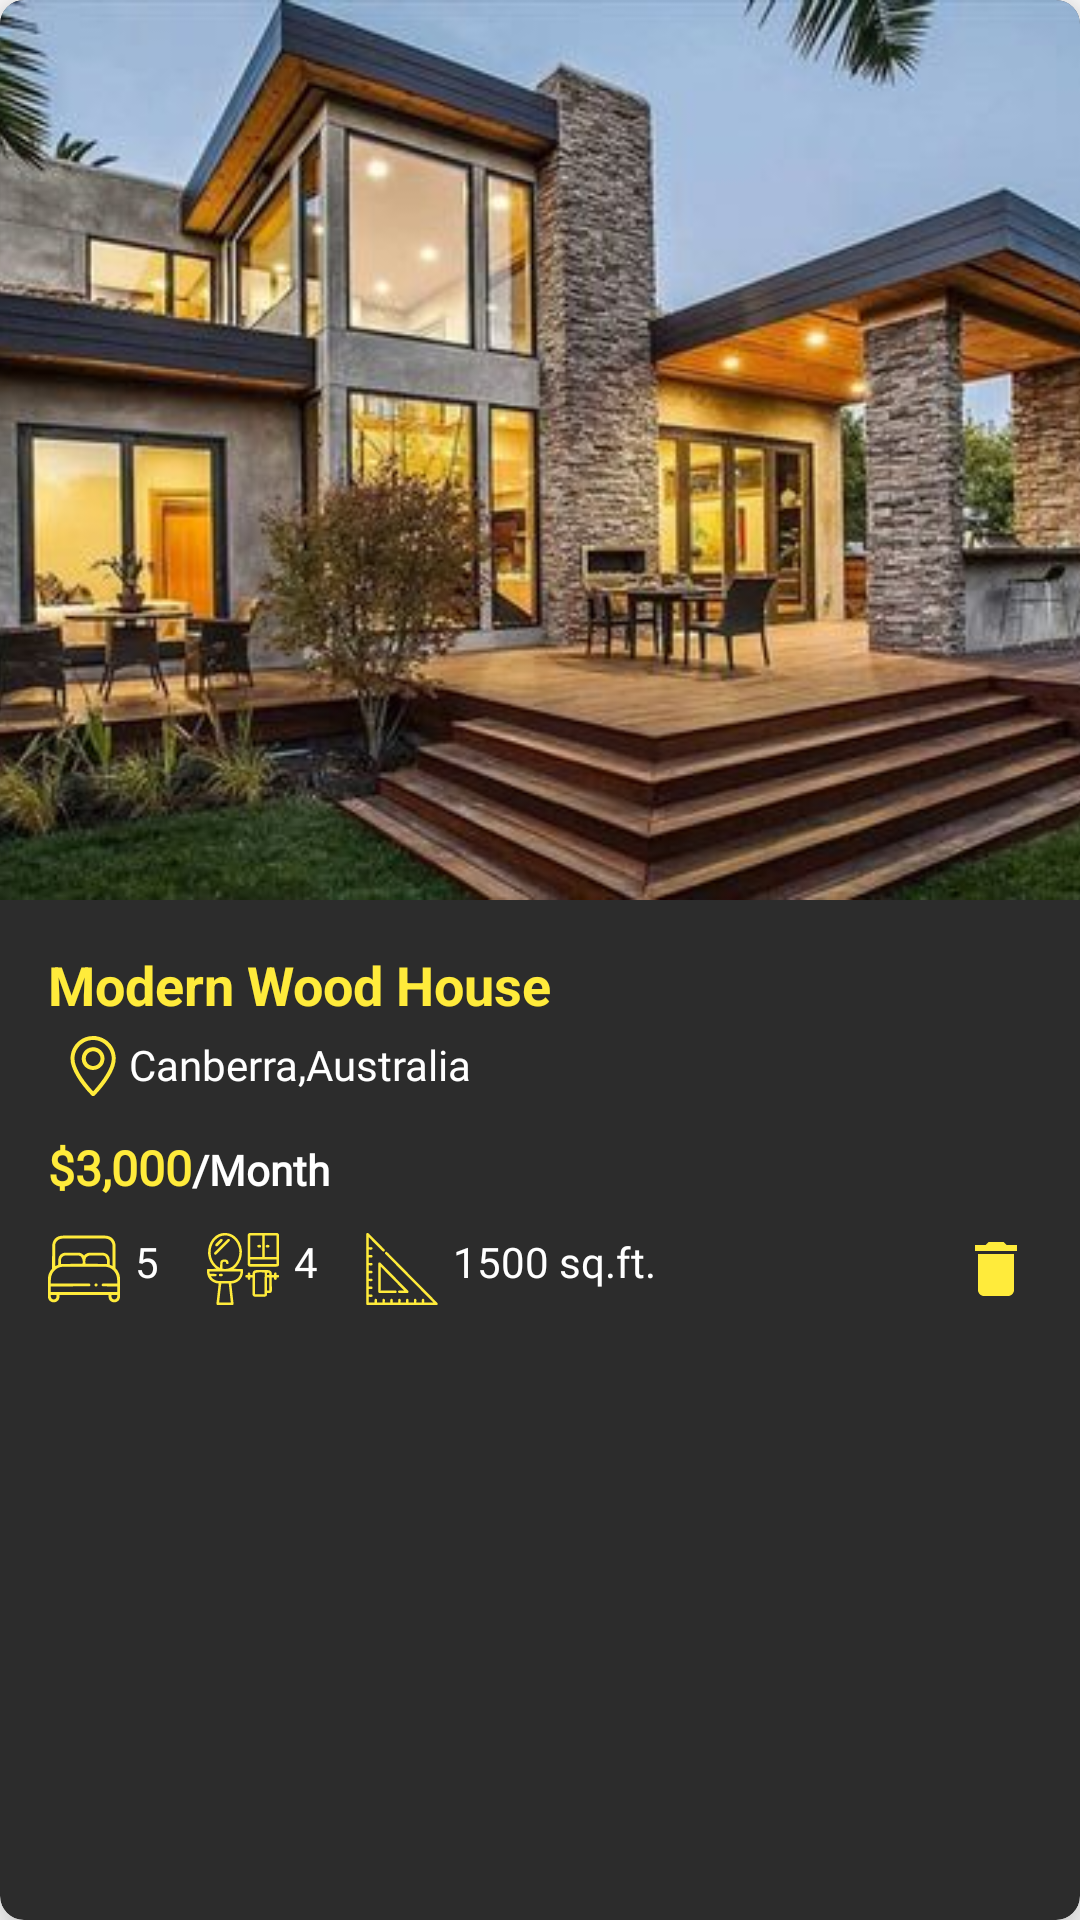

Icon bounding boxes for this 1080 x 1920 phone screenshot, format (x1, y1, x2, y2):
Delete property: (975, 1242, 1017, 1296)
